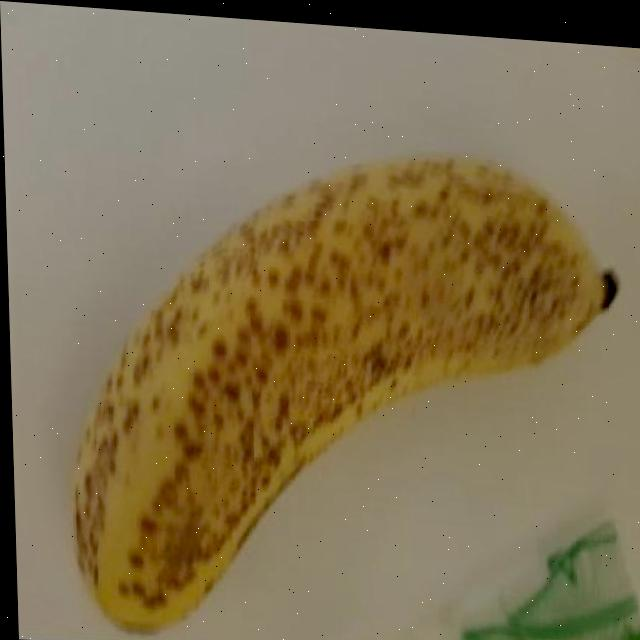banana: (61, 120, 635, 640)
